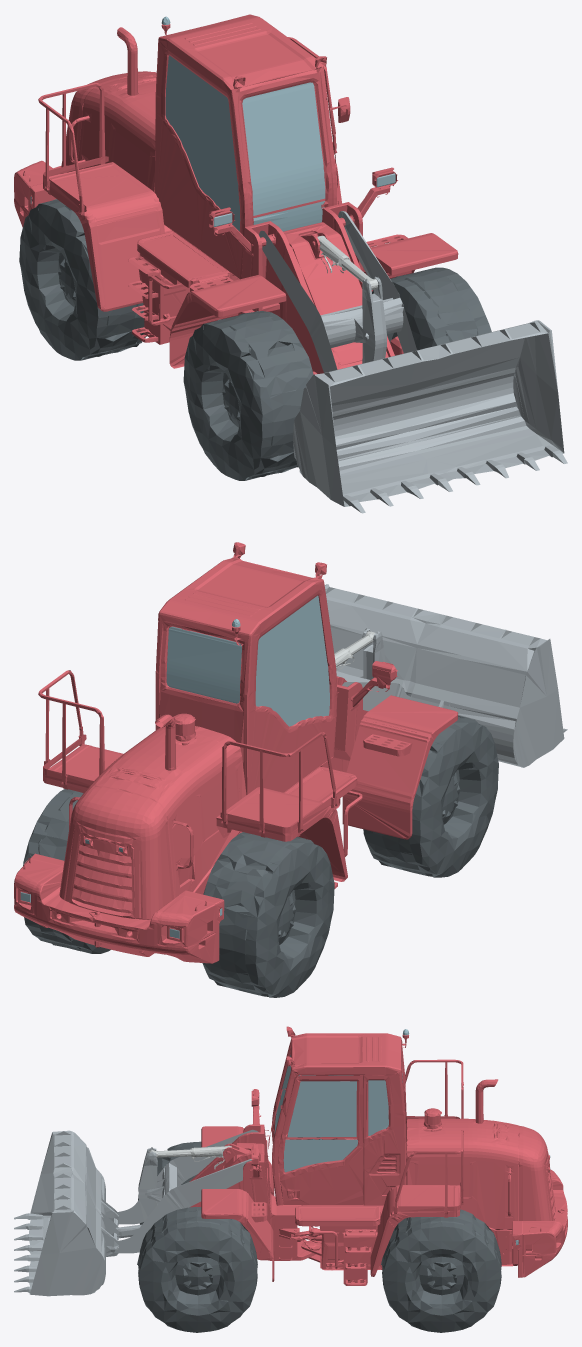
The model's file is cargador_frontal_a.glb.
3 renders of one model, top to bottom at view 1: azimuth 30°, elevation 25°; view 2: azimuth 150°, elevation 25°; view 3: azimuth 270°, elevation 25°, orthographic. The views are drawn at different scales.
Parts seen in each view (by area): view 1: DRILLRUN_cargador_frontal_a_parte_01, DRILLRUN_cargador_frontal_a_parte_12, DRILLRUN_cargador_frontal_a_parte_02, DRILLRUN_cargador_frontal_a_parte_22, DRILLRUN_cargador_frontal_a_parte_04, DRILLRUN_cargador_frontal_a_parte_23, DRILLRUN_cargador_frontal_a_parte_09, DRILLRUN_cargador_frontal_a_parte_20, DRILLRUN_cargador_frontal_a_parte_10, DRILLRUN_cargador_frontal_a_parte_14, DRILLRUN_cargador_frontal_a_parte_13; view 2: DRILLRUN_cargador_frontal_a_parte_01, DRILLRUN_cargador_frontal_a_parte_12, DRILLRUN_cargador_frontal_a_parte_23, DRILLRUN_cargador_frontal_a_parte_02, DRILLRUN_cargador_frontal_a_parte_22, DRILLRUN_cargador_frontal_a_parte_04, DRILLRUN_cargador_frontal_a_parte_14, DRILLRUN_cargador_frontal_a_parte_21, DRILLRUN_cargador_frontal_a_parte_09, DRILLRUN_cargador_frontal_a_parte_10; view 3: DRILLRUN_cargador_frontal_a_parte_01, DRILLRUN_cargador_frontal_a_parte_12, DRILLRUN_cargador_frontal_a_parte_20, DRILLRUN_cargador_frontal_a_parte_21, DRILLRUN_cargador_frontal_a_parte_02, DRILLRUN_cargador_frontal_a_parte_17, DRILLRUN_cargador_frontal_a_parte_16, DRILLRUN_cargador_frontal_a_parte_09, DRILLRUN_cargador_frontal_a_parte_14, DRILLRUN_cargador_frontal_a_parte_04, DRILLRUN_cargador_frontal_a_parte_10, DRILLRUN_cargador_frontal_a_parte_13 (+3 smaller).
Part boxes in pixels (box(x1,y1,x2,y2)): DRILLRUN_cargador_frontal_a_parte_01: box(38, 14, 350, 344); DRILLRUN_cargador_frontal_a_parte_12: box(293, 320, 567, 513); DRILLRUN_cargador_frontal_a_parte_02: box(169, 167, 458, 374); DRILLRUN_cargador_frontal_a_parte_22: box(183, 311, 313, 480); DRILLRUN_cargador_frontal_a_parte_04: box(161, 16, 325, 231); DRILLRUN_cargador_frontal_a_parte_23: box(19, 199, 146, 360); DRILLRUN_cargador_frontal_a_parte_09: box(259, 211, 417, 372); DRILLRUN_cargador_frontal_a_parte_20: box(372, 267, 491, 350); DRILLRUN_cargador_frontal_a_parte_10: box(362, 276, 386, 363); DRILLRUN_cargador_frontal_a_parte_14: box(14, 160, 61, 227); DRILLRUN_cargador_frontal_a_parte_13: box(317, 235, 378, 289); DRILLRUN_cargador_frontal_a_parte_01: box(38, 542, 362, 919); DRILLRUN_cargador_frontal_a_parte_12: box(324, 584, 567, 767); DRILLRUN_cargador_frontal_a_parte_23: box(202, 832, 334, 997); DRILLRUN_cargador_frontal_a_parte_02: box(320, 661, 458, 839); DRILLRUN_cargador_frontal_a_parte_22: box(363, 715, 498, 877); DRILLRUN_cargador_frontal_a_parte_04: box(85, 595, 329, 852); DRILLRUN_cargador_frontal_a_parte_14: box(14, 853, 224, 963); DRILLRUN_cargador_frontal_a_parte_21: box(23, 789, 110, 953); DRILLRUN_cargador_frontal_a_parte_09: box(336, 671, 409, 711); DRILLRUN_cargador_frontal_a_parte_10: box(362, 628, 385, 679); DRILLRUN_cargador_frontal_a_parte_01: box(266, 1026, 556, 1285); DRILLRUN_cargador_frontal_a_parte_12: box(14, 1130, 118, 1296); DRILLRUN_cargador_frontal_a_parte_20: box(137, 1207, 257, 1332); DRILLRUN_cargador_frontal_a_parte_21: box(381, 1209, 501, 1332); DRILLRUN_cargador_frontal_a_parte_02: box(189, 1089, 321, 1281); DRILLRUN_cargador_frontal_a_parte_17: box(283, 1081, 357, 1172); DRILLRUN_cargador_frontal_a_parte_16: box(278, 1075, 363, 1204); DRILLRUN_cargador_frontal_a_parte_09: box(115, 1129, 258, 1253); DRILLRUN_cargador_frontal_a_parte_14: box(512, 1169, 567, 1277); DRILLRUN_cargador_frontal_a_parte_04: box(274, 1029, 550, 1169); DRILLRUN_cargador_frontal_a_parte_10: box(138, 1147, 157, 1221); DRILLRUN_cargador_frontal_a_parte_13: box(149, 1145, 231, 1169).
Bounding box in the file's own units: 3.2 × 4 × 8.03.
